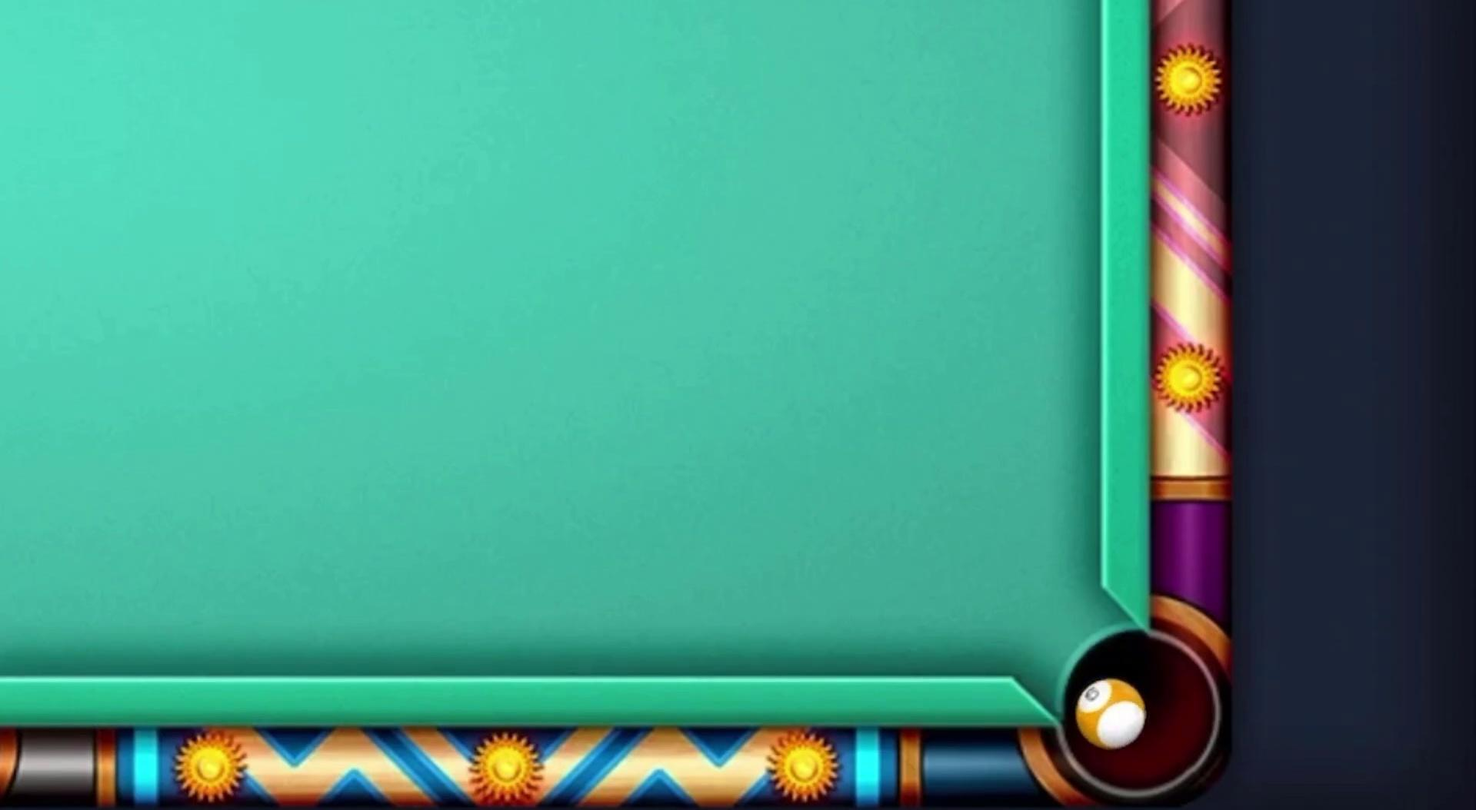Ball: (1068, 674, 1157, 760)
Hole: (1004, 609, 1248, 794)
